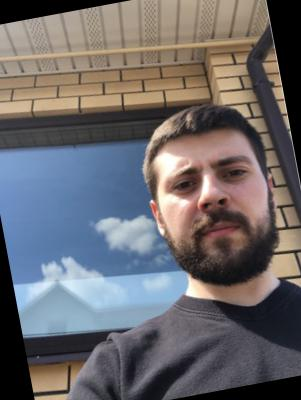without_mask: (156, 143, 285, 295)
